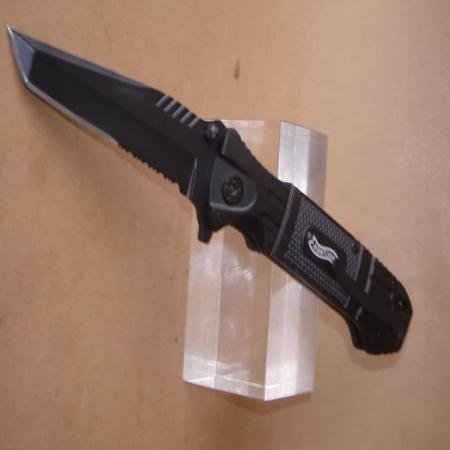long weapon: (5, 24, 204, 180)
